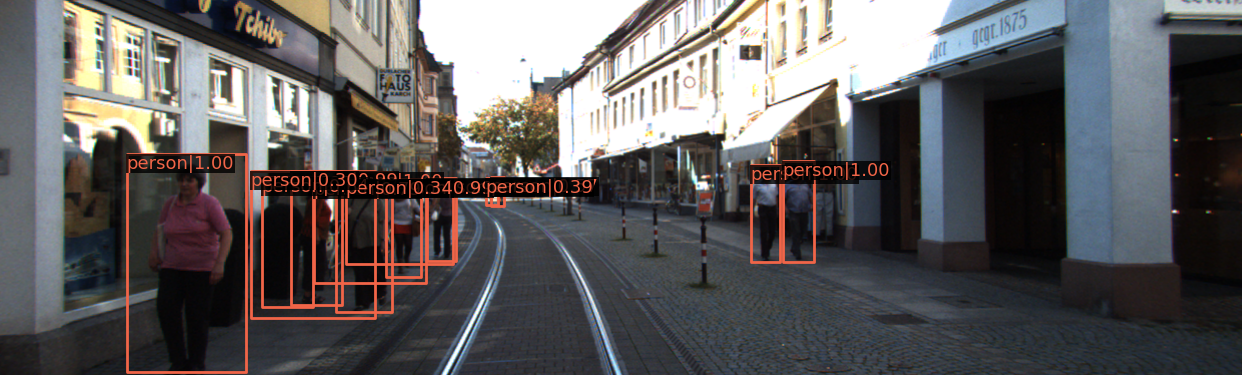person: (155, 164, 249, 375), (342, 172, 396, 316), (301, 171, 337, 306), (781, 166, 821, 262), (750, 163, 786, 264), (391, 176, 427, 275), (434, 181, 465, 259)
